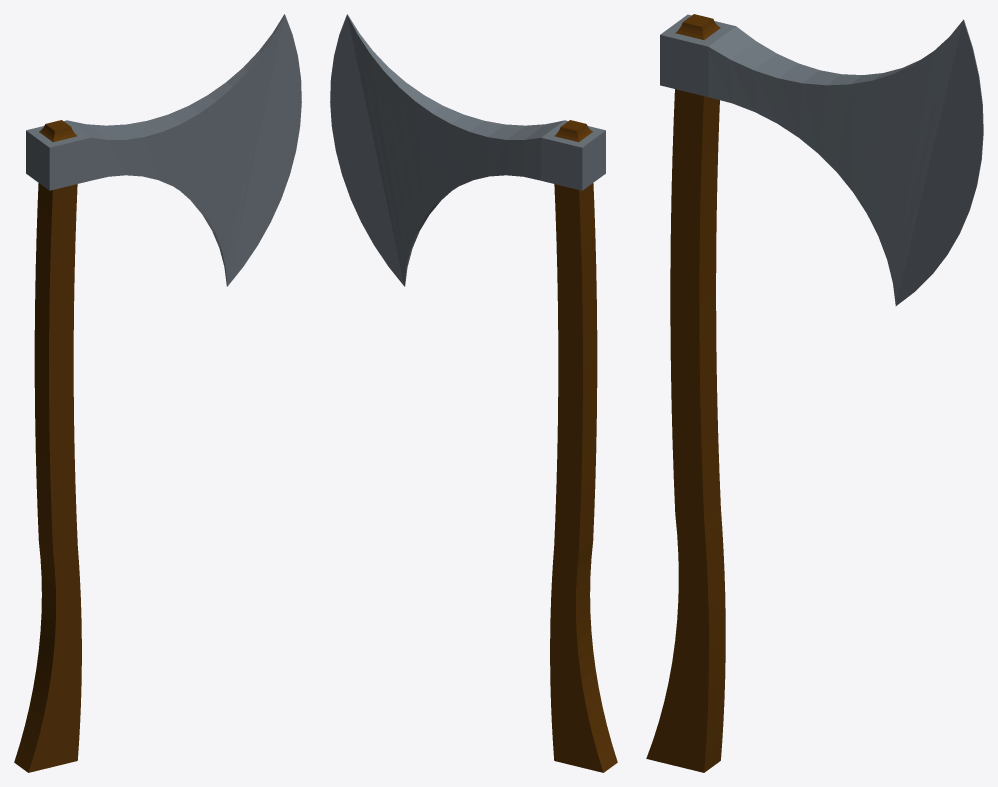
The model's file is Axe.obj.
3 views of the same model, side by side, from view 1: azimuth 30°, elevation 25°; view 2: azimuth 150°, elevation 25°; view 3: azimuth 330°, elevation 25° (orthographic). The views are drawn at different scales.
Visible parts, largest first — view 1: Mesh1; view 2: Mesh1; view 3: Mesh1.
Boxes of the visible parts, left/top/right/bottom form: Mesh1: left=14, top=14, right=301, bottom=772; Mesh1: left=330, top=14, right=617, bottom=772; Mesh1: left=646, top=14, right=983, bottom=772.
Bounding box in the file's own units: 34.05 × 80 × 5.
